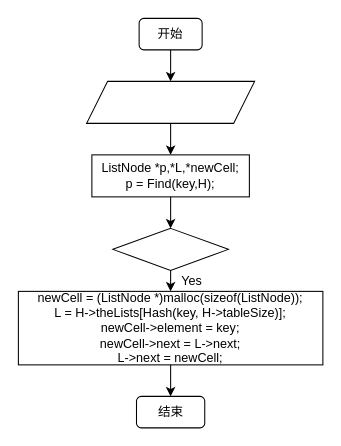
This 341x446 diagram has some shape labels left out. The shapes that lost their labels are listed below. From the top down, each one's centre as x and y in pixels, then its label:
At point (170, 101): "输入要插入的元素key， HashTable 的头结点H".
At point (170, 248): "p = NULL".
